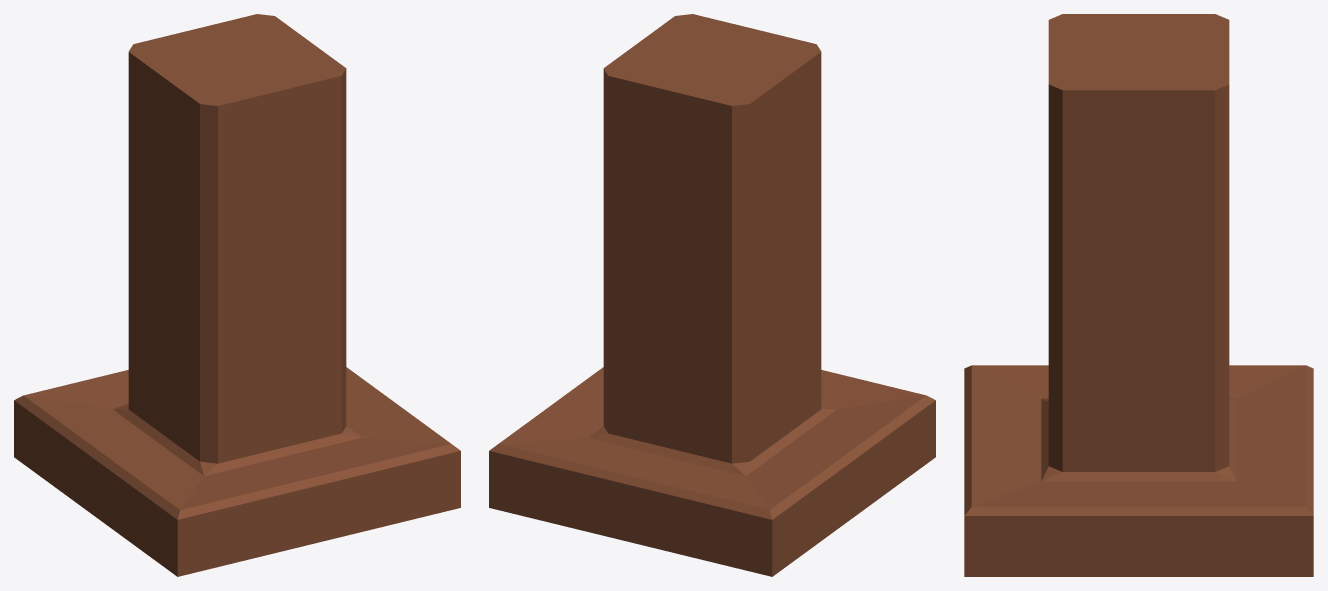
Rendered from wood_Tbase.fbx.
3 views of the same model, side by side, from view 1: azimuth 30°, elevation 25°; view 2: azimuth 150°, elevation 25°; view 3: azimuth 270°, elevation 25° (orthographic). The views are drawn at different scales.
Parts seen in each view (by area): view 1: Wood_TBase; view 2: Wood_TBase; view 3: Wood_TBase.
Part boxes in pixels (x1=…): Wood_TBase: x1=14, y1=14, x2=460, y2=576; Wood_TBase: x1=489, y1=14, x2=935, y2=576; Wood_TBase: x1=964, y1=14, x2=1313, y2=576.
Size of the model in its own units: 194 by 276 by 194.
